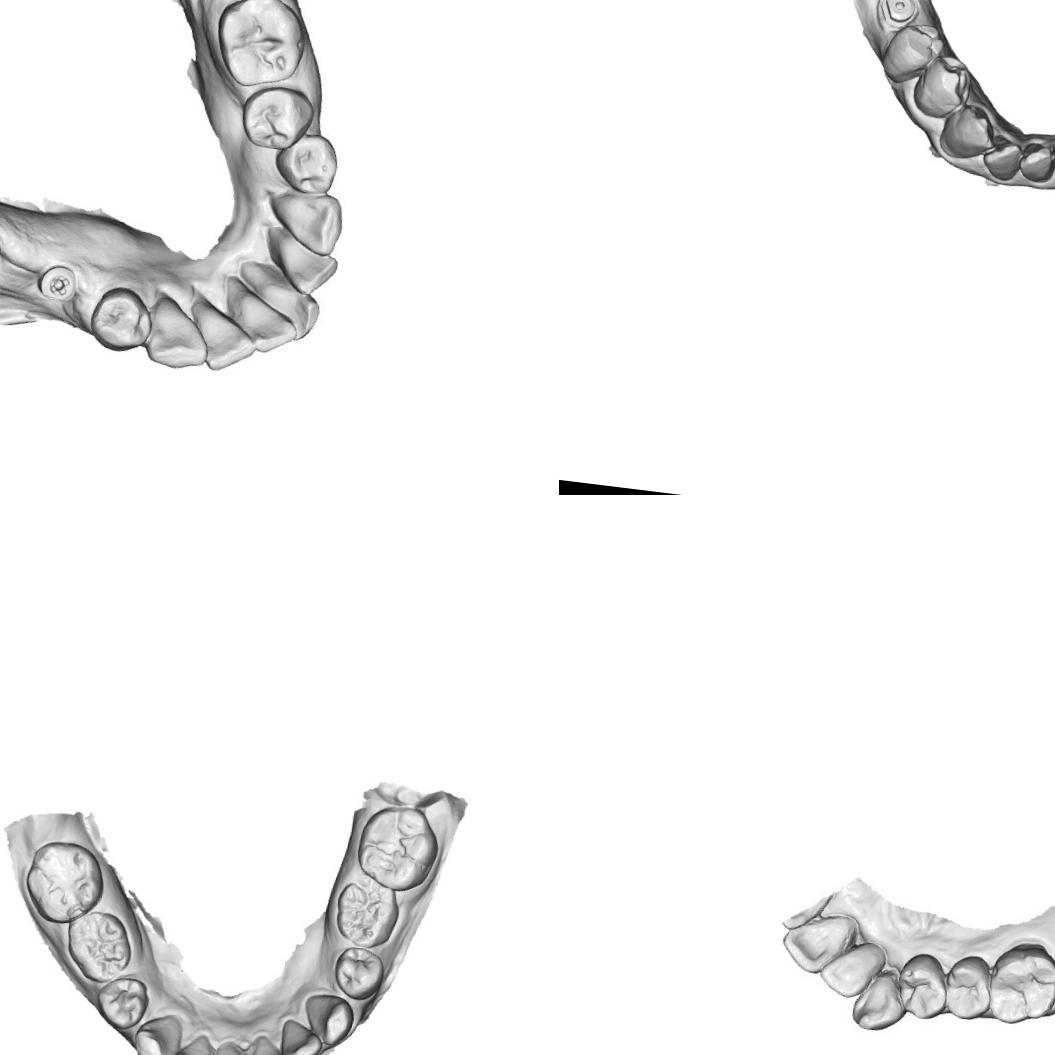canine: (262, 182, 350, 260), (138, 288, 212, 374), (934, 102, 996, 166), (850, 970, 906, 1036), (298, 991, 357, 1048), (130, 1008, 186, 1055)
implant: (872, 0, 922, 29)
implant_minus: (0, 211, 14, 286)
implant_plus: (26, 249, 88, 316)
incisor: (240, 262, 325, 344), (188, 291, 260, 374), (265, 224, 342, 294), (777, 911, 857, 977), (225, 290, 300, 358), (816, 940, 880, 1002), (977, 139, 1025, 186), (1014, 138, 1055, 189), (276, 1016, 326, 1055), (166, 1028, 217, 1055), (244, 1040, 290, 1055), (204, 1042, 254, 1055)
molar: (211, 0, 313, 92), (352, 800, 446, 897), (18, 836, 109, 930), (986, 938, 1055, 1030), (60, 906, 138, 987), (330, 874, 404, 954)
premolar: (237, 76, 313, 156), (270, 125, 342, 195), (879, 15, 949, 87), (908, 50, 976, 124), (88, 282, 155, 356), (893, 950, 953, 1024), (940, 949, 999, 1024), (92, 971, 152, 1036), (329, 943, 389, 1004)
